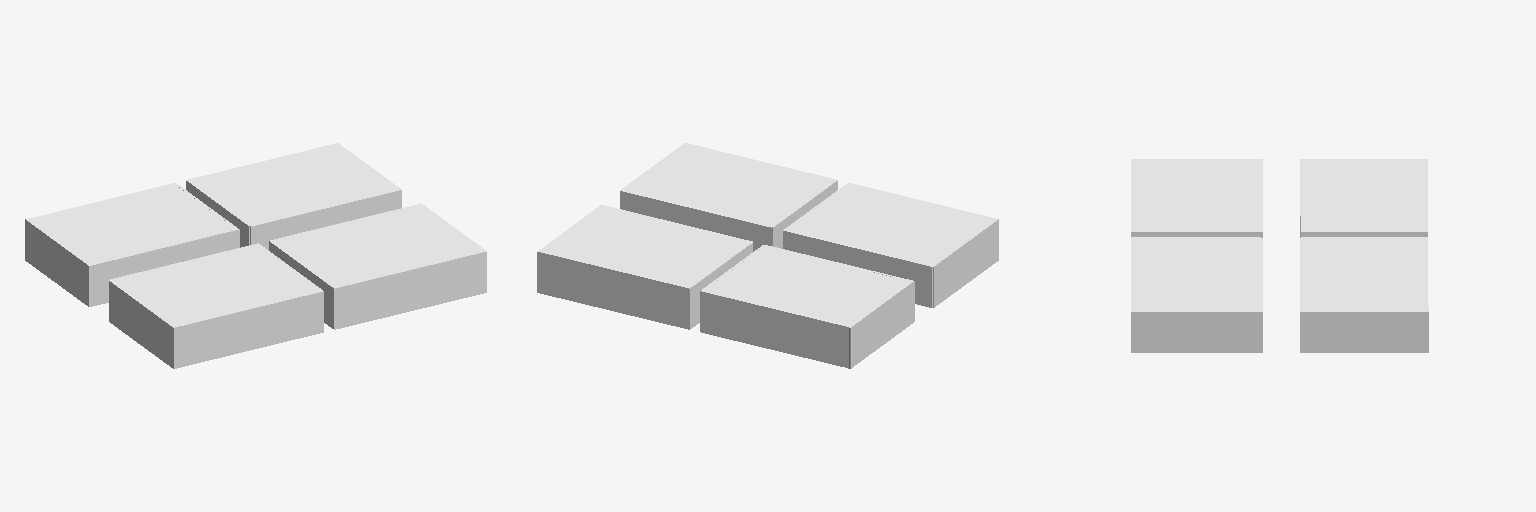
File: render.obj
3 views of the same model, side by side, from view 1: azimuth 30°, elevation 25°; view 2: azimuth 150°, elevation 25°; view 3: azimuth 270°, elevation 25° (orthographic).
Parts seen in each view (by area): view 1: room_4_116, room_2_112, room_3_114, room_1_110, wall_15_86, wall_7_38, wall_2_8, wall_9_53, wall_8_44, wall_17_98, wall_16_92, wall_12_71; view 2: room_4_116, room_2_112, room_3_114, room_1_110, wall_11_65, wall_4_20, wall_5_26, wall_13_74, wall_8_44, wall_17_98, wall_12_71, wall_16_92; view 3: room_4_116, room_3_114, room_2_112, room_1_110, wall_14_80, wall_10_59, wall_6_32, wall_1_2.
Boxes of the visible parts, box(x1,y1,x2,y2) form: room_4_116: box(273, 205, 482, 286); room_2_112: box(112, 245, 319, 325); room_3_114: box(189, 145, 397, 224); room_1_110: box(29, 184, 234, 263); wall_15_86: box(334, 252, 486, 329); wall_7_38: box(174, 291, 323, 368); wall_2_8: box(89, 229, 239, 306); wall_9_53: box(250, 190, 401, 249); wall_8_44: box(109, 281, 173, 368); wall_17_98: box(26, 220, 88, 306); wall_16_92: box(269, 241, 333, 328); wall_12_71: box(186, 181, 249, 247); room_4_116: box(624, 144, 834, 225); room_2_112: box(787, 184, 994, 265); room_3_114: box(542, 206, 749, 286); room_1_110: box(704, 246, 910, 325); wall_11_65: box(537, 252, 689, 329); wall_4_20: box(700, 291, 847, 367); wall_5_26: box(783, 231, 932, 307); wall_13_74: box(620, 191, 771, 251); wall_8_44: box(933, 219, 998, 307); wall_17_98: box(852, 281, 914, 367); wall_12_71: box(690, 243, 752, 328); wall_16_92: box(772, 181, 837, 248); room_4_116: box(1134, 238, 1259, 310); room_3_114: box(1303, 238, 1425, 310); room_2_112: box(1134, 160, 1259, 230); room_1_110: box(1303, 160, 1425, 230); wall_14_80: box(1131, 312, 1262, 352); wall_10_59: box(1300, 312, 1428, 352); wall_6_32: box(1131, 232, 1262, 237); wall_1_2: box(1301, 232, 1427, 236).
Size of the model in its own units: 2229 by 280 by 1825.